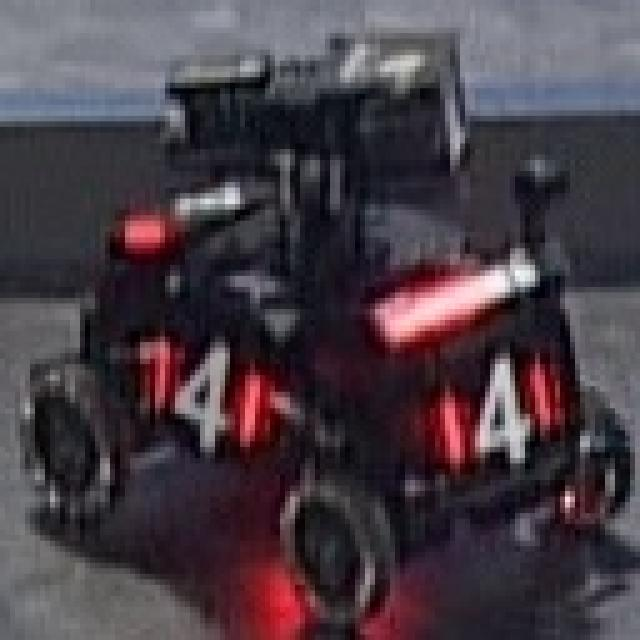R4: (132, 326, 272, 464), (418, 345, 552, 472)
